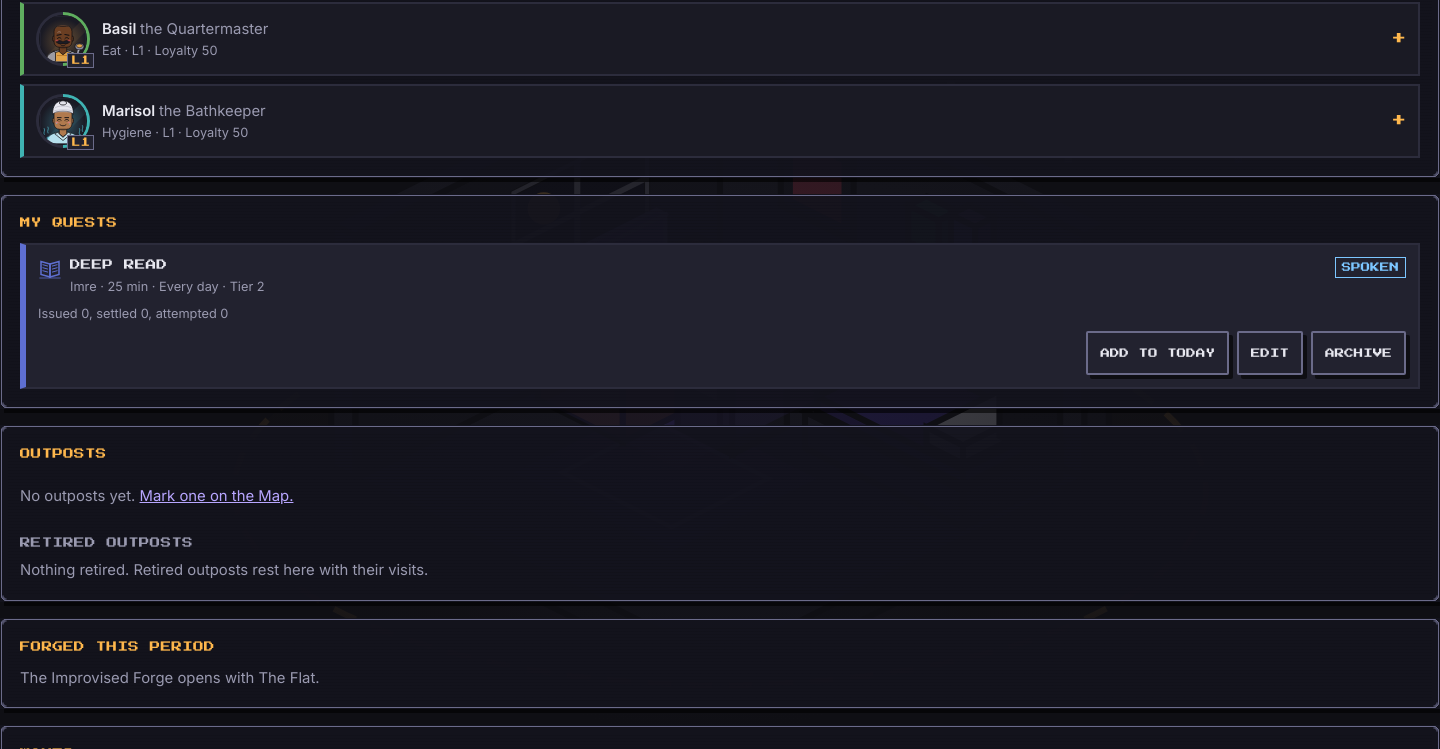
Scenario: Ledger: editing a quest of your own › Save changes applies every field, re-caps the tier by effort and shows one toast
(page scrolled)
Click the button "Edit" at point(1270, 353), box x1=1237 y1=331 x2=1303 y2=375
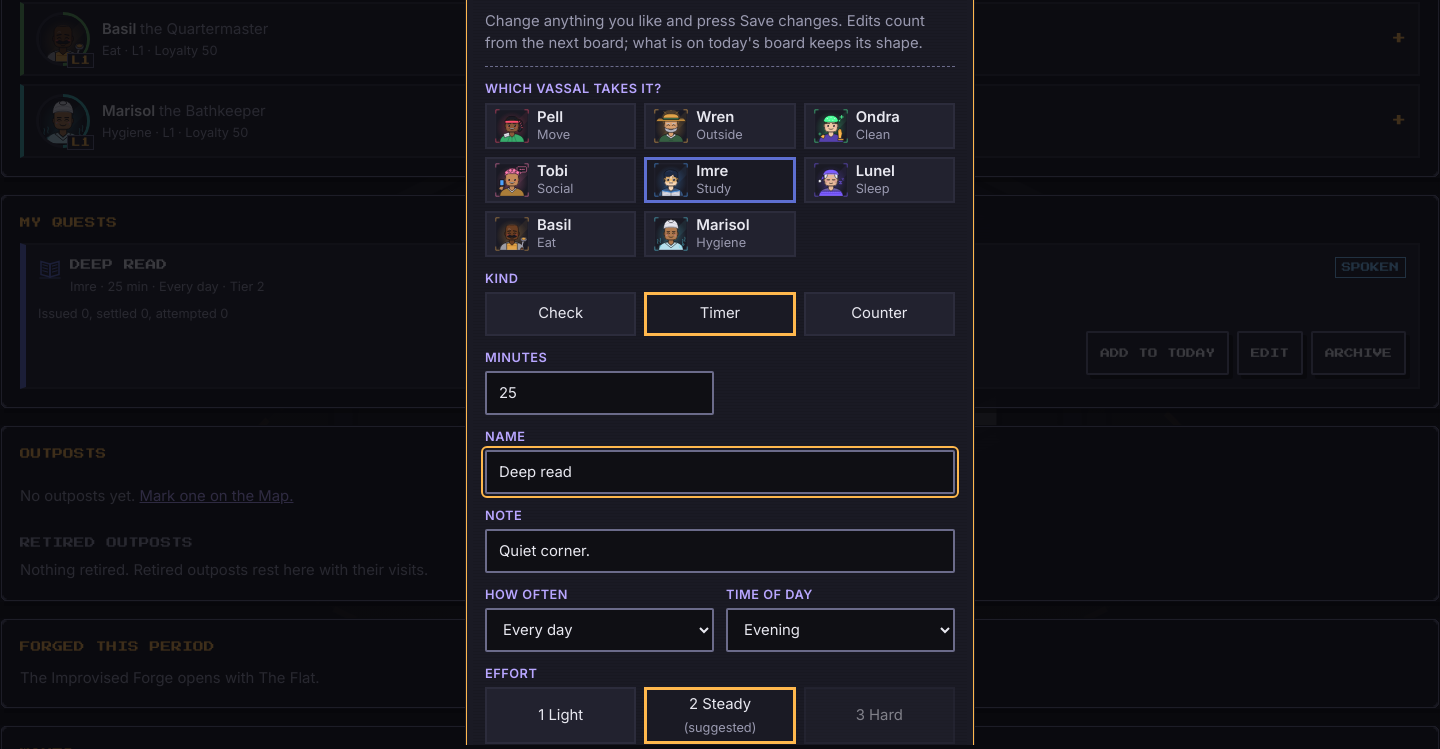
Replace the text in the field labelled "Name" with "Long read" at point(720, 472), box x1=485 y1=450 x2=955 y2=494
Replace the text in the field labelled "Note" with "Two hours." at point(720, 551), box x1=485 y1=529 x2=955 y2=573
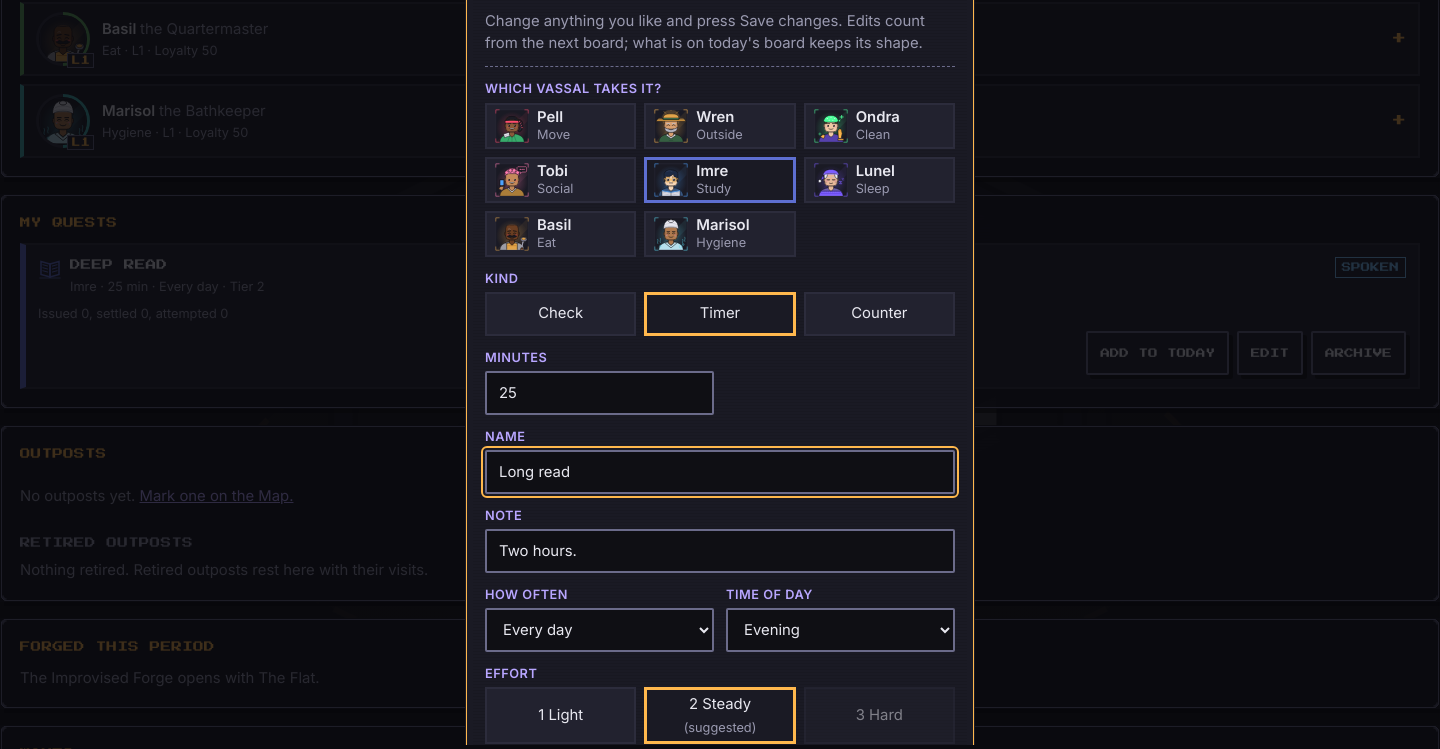
Replace the text in the number field labelled "Minutes" with "45" at point(600, 393), box x1=485 y1=371 x2=714 y2=415
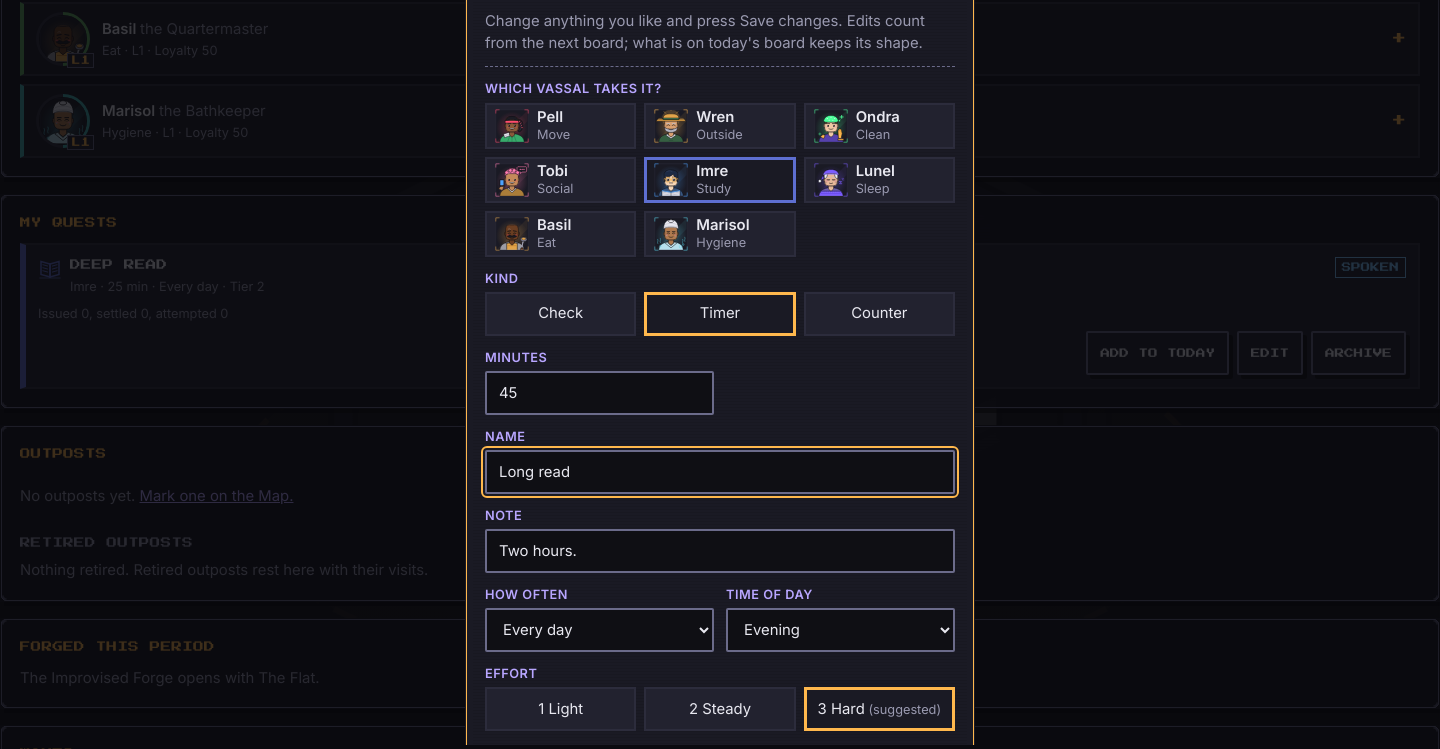
Select "Every Wednesday" in the dropdown labelled "How often" at point(600, 630), box x1=485 y1=608 x2=714 y2=652
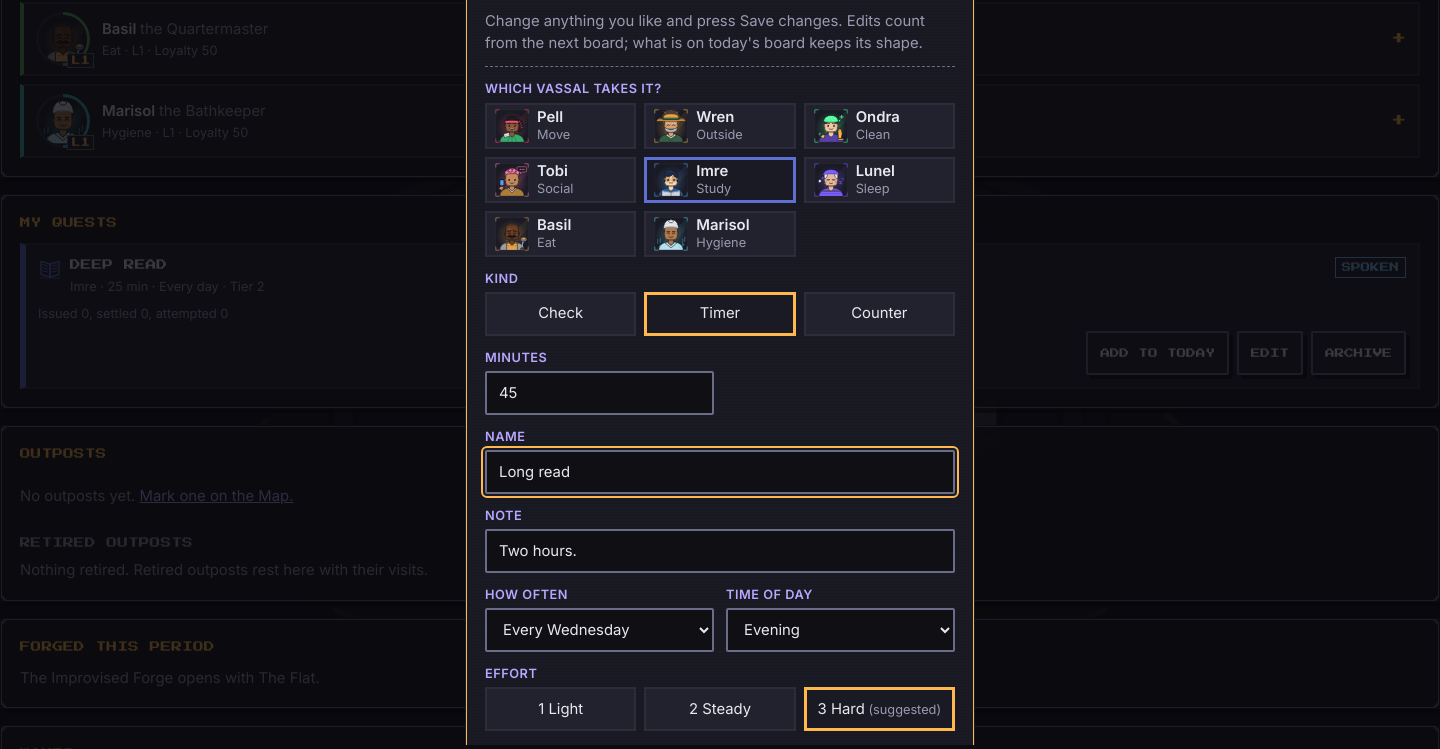
Select "Morning" in the dropdown labelled "Time of day" at point(840, 630), box x1=726 y1=608 x2=955 y2=652
(page scrolled)
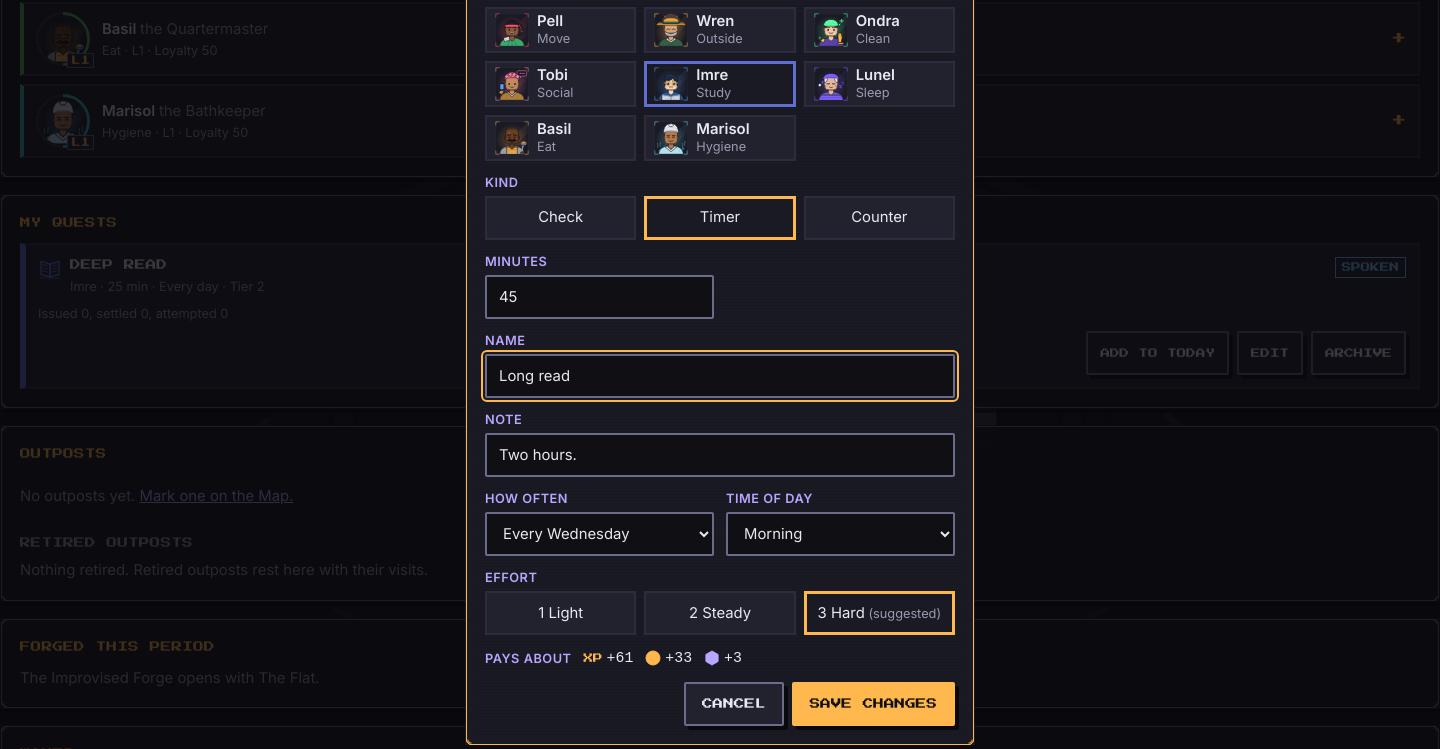
Expected: the radio button labelled "3 Hard (suggested)" is checked, x1=804 y1=591 x2=955 y2=635
Click the button "Save changes" at point(873, 704), box x1=792 y1=682 x2=955 y2=726
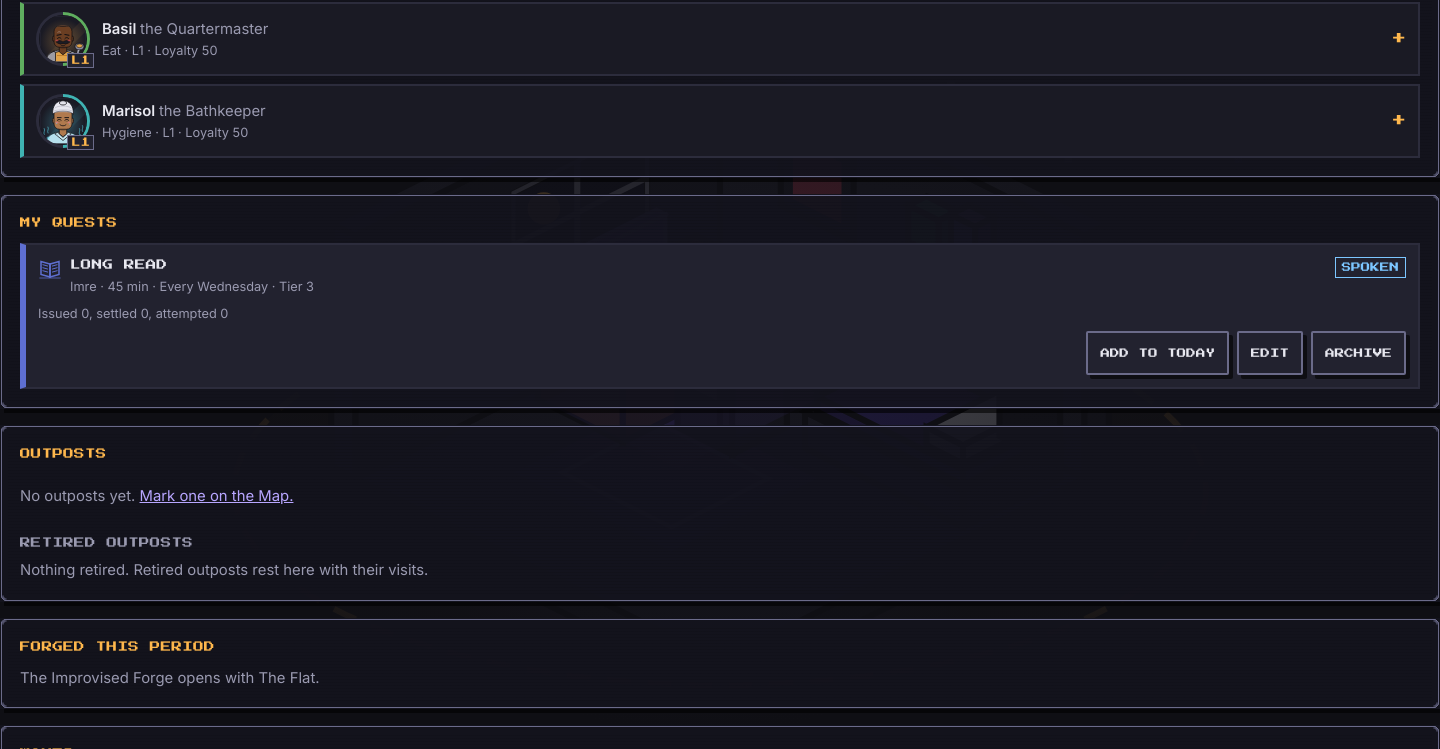
Expected: the text "Imre · 45 min · Every Wednesday · Tier 3" is shown, x1=70 y1=279 x2=314 y2=294
